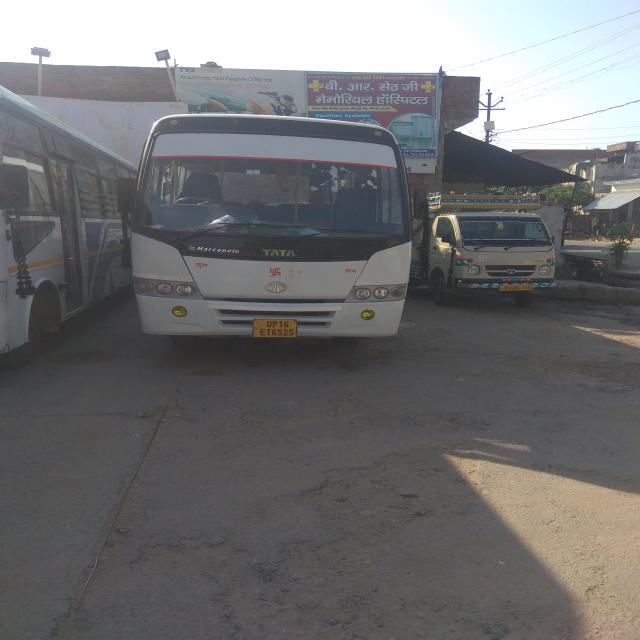Bus: (0, 88, 413, 365)
